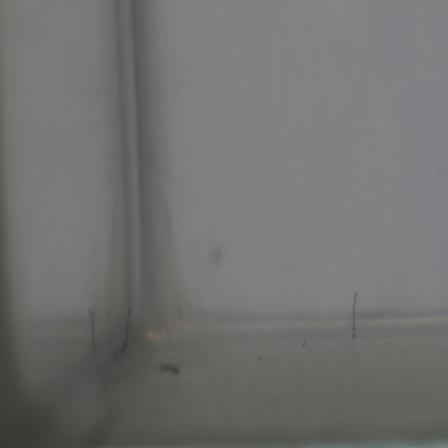Jentik-Nyamuk: (118, 302, 135, 355), (346, 286, 362, 339)
